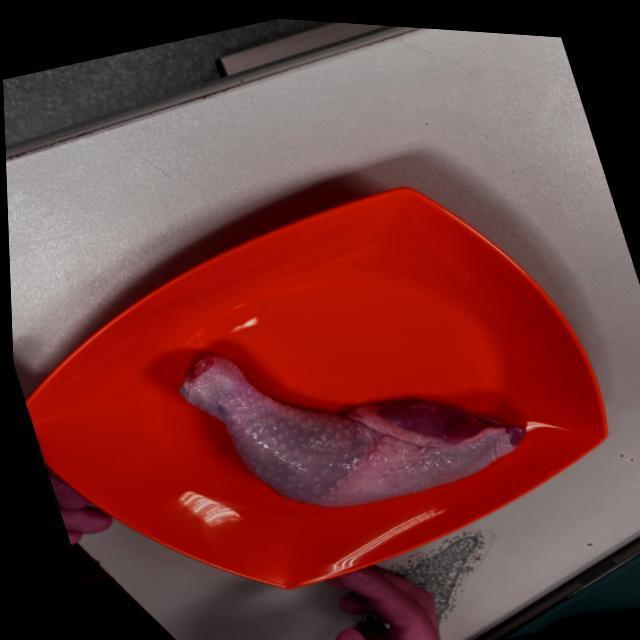quater: (184, 327, 532, 506)
